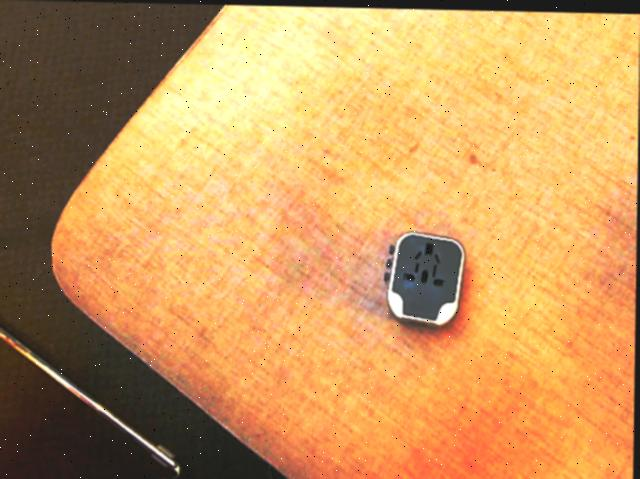adapter: (383, 228, 466, 325)
